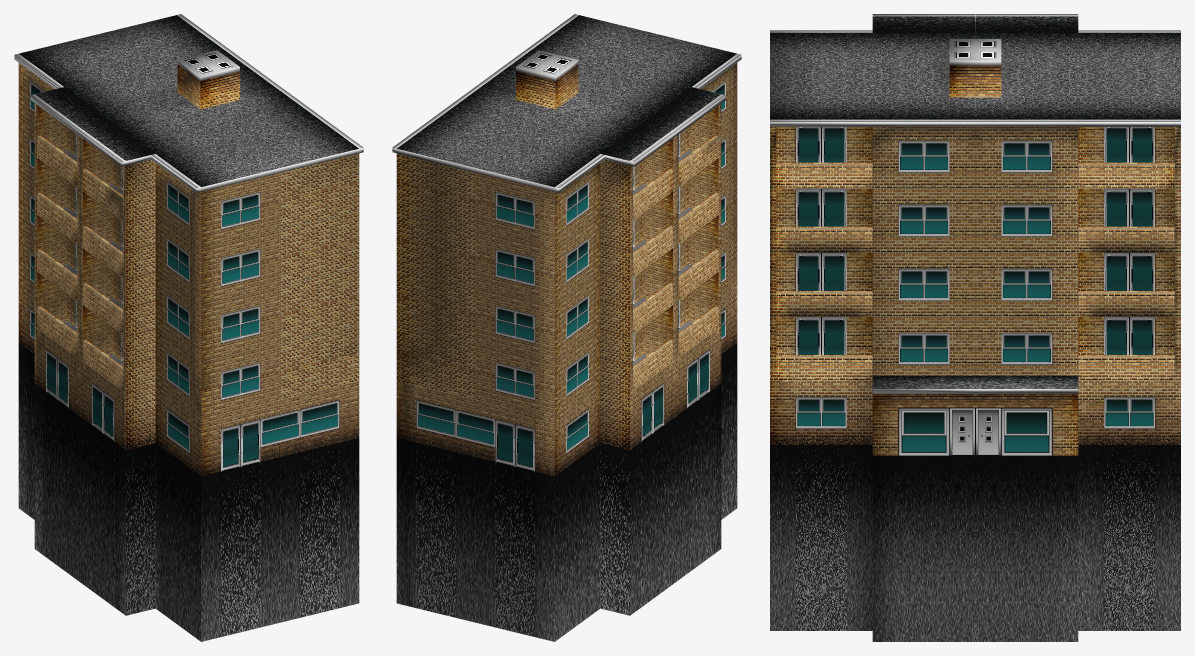
The model's file is apartement_mod1_1b.fbx.
The picture shows the model from 3 angles, left to right: view 1: azimuth 30°, elevation 25°; view 2: azimuth 150°, elevation 25°; view 3: azimuth 270°, elevation 25°; orthographic projection. The views are drawn at different scales.
Visible parts, largest first — view 1: apartement_mod1_1b; view 2: apartement_mod1_1b; view 3: apartement_mod1_1b.
Part boxes in pixels (left/top/right/bottom): apartement_mod1_1b: left=14, top=14, right=363, bottom=641; apartement_mod1_1b: left=392, top=14, right=741, bottom=641; apartement_mod1_1b: left=770, top=14, right=1180, bottom=641.
Size of the model in its own units: 1231 by 2652 by 1800.
